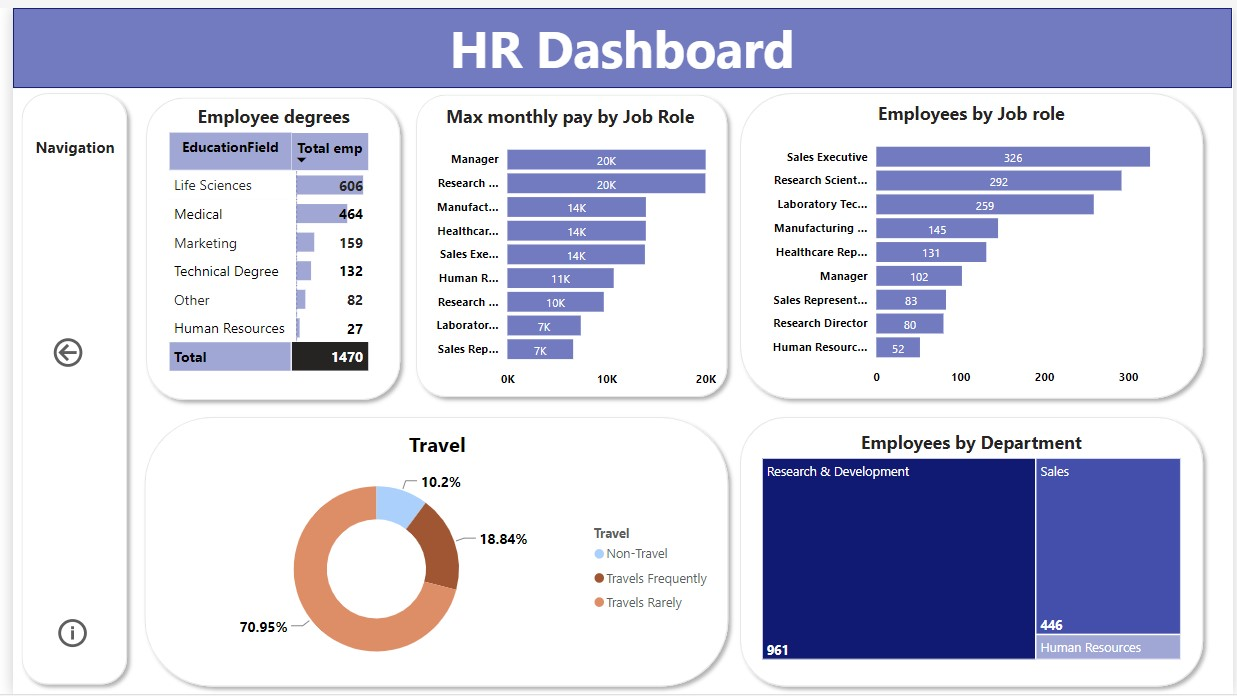

This screenshot's page, from the dashboard's own definition file:
{"tool":"powerbi","page":{"name":"Dashboard2","canvas":[1280,720],"ordinal":1},"visuals":[{"type":"shape","box":[753.4,81.1,503.8,338.5],"z":0},{"type":"shape","box":[128.7,419.6,631,300.4],"z":1000},{"type":"shape","box":[0,0,1279.5,84.2],"z":2000},{"type":"textbox","box":[453,0,454.6,84.2],"z":3000},{"type":"shape","box":[0,81.1,128.7,638.9],"z":4000},{"type":"shape","box":[130.3,84.2,284.5,335.4],"z":5000},{"type":"shape","box":[753.4,419.6,503.8,300.4],"z":6000},{"type":"barChart","title":"Employees by Job role","fields":{"Category":["HR Analytics Data.JobRole"],"Y":["All measures.Total emp"]},"box":[780.4,97,449.8,308.3],"z":7000},{"type":"donutChart","title":"Travel","fields":{"Y":["All measures.Total emp"],"Series":["HR Analytics Data.Travel"]},"box":[147.8,441.9,594.4,263.8],"z":8000},{"type":"treemap","title":"Employees by Department","fields":{"Values":["All measures.Total emp"],"Details":["HR Analytics Data.Department"]},"box":[780.4,441.9,449.8,246.4],"z":9000},{"type":"pivotTable","title":"Employee degrees","fields":{"Values":["All measures.Total emp"],"Rows":["HR Analytics Data.EducationField"]},"box":[158.9,100.1,228.9,306.8],"z":10000},{"type":"shape","box":[414.8,82.6,344.9,335.4],"z":10500},{"type":"barChart","title":"Max monthly pay by Job Role","fields":{"Category":["HR Analytics Data.JobRole"],"Y":["Max(HR Analytics Data.MonthlyIncome)"]},"box":[426,100.1,316.3,306.8],"z":11000},{"type":"textbox","box":[0,128.7,130.3,50.9],"z":11001},{"type":"actionButton","title":"M","box":[42.9,629.4,39.7,52.5],"z":11002},{"type":"actionButton","box":[38.1,341.7,49.3,39.7],"z":11003}]}

Visuals, with their boxes in screenshot pixels (x1, y1, x2, y2), scaled from the page's 1280x720 canvas onto the 1237x696 screenshot:
shape: 728/78/1215/406
shape: 124/406/734/695
shape: 0/0/1236/81
textbox: 438/0/877/81
shape: 0/78/124/695
shape: 126/81/401/406
shape: 728/406/1215/695
"Employees by Job role" barChart: 754/94/1189/392
"Travel" donutChart: 143/427/717/682
"Employees by Department" treemap: 754/427/1189/665
"Employee degrees" pivotTable: 154/97/375/393
shape: 401/80/734/404
"Max monthly pay by Job Role" barChart: 412/97/717/393
textbox: 0/124/126/174
"M" actionButton: 41/608/80/659
actionButton: 37/330/84/369
